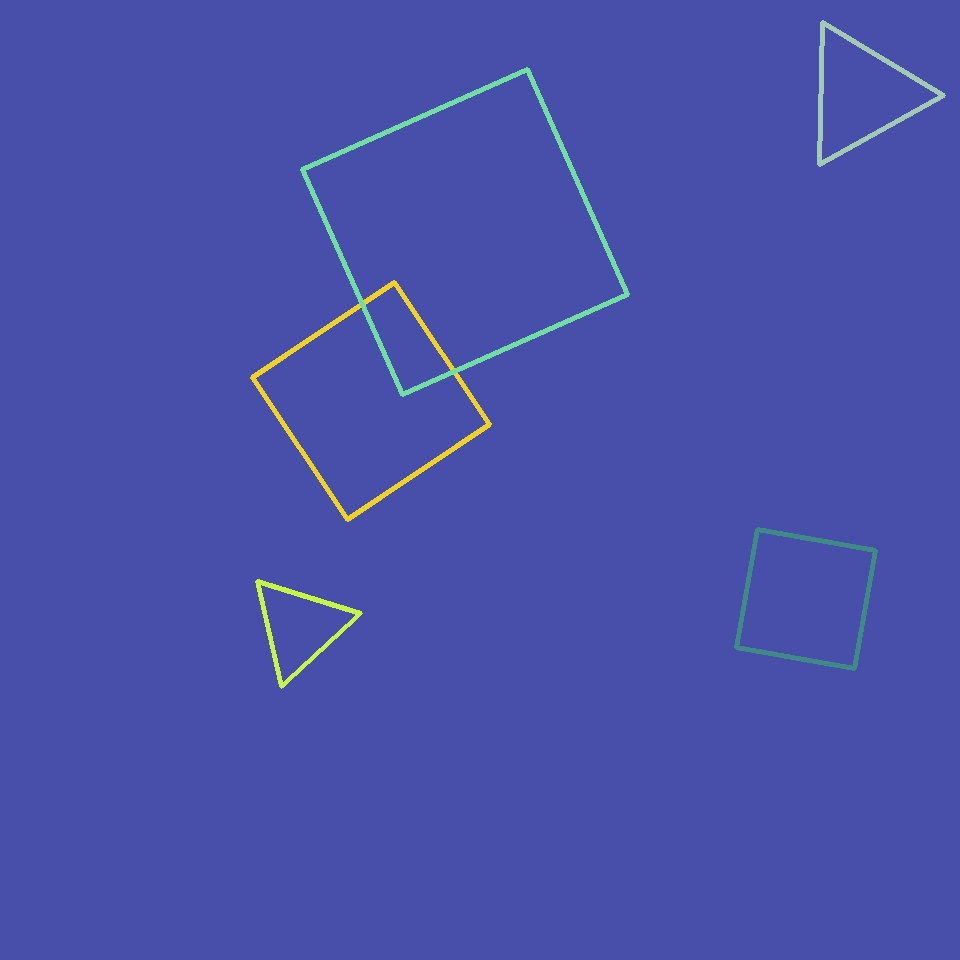circle: (800, 23, 924, 165), (248, 574, 352, 680)
square: (302, 70, 628, 394), (253, 283, 490, 520), (736, 530, 876, 668)
